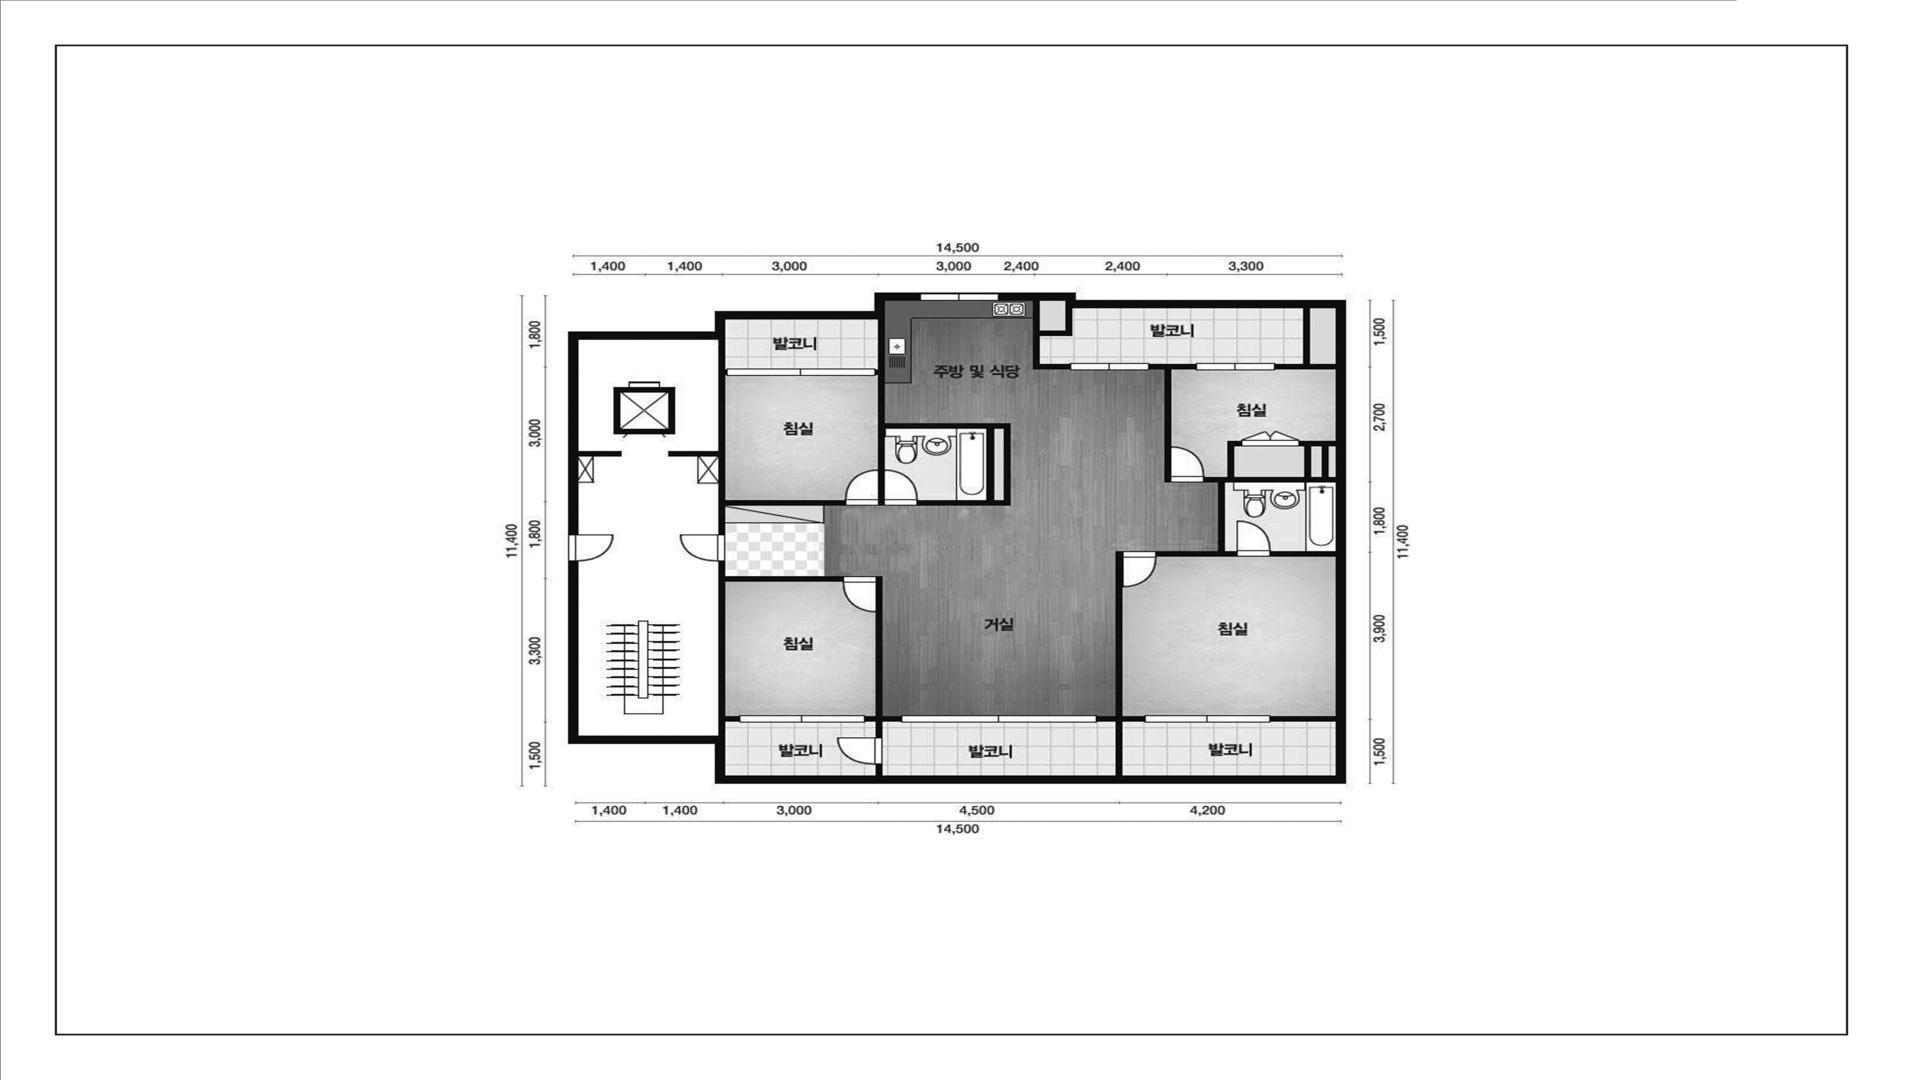background: (0, 0, 1920, 1080)
door: (567, 534, 615, 562), (836, 737, 884, 765), (679, 534, 725, 562), (1122, 551, 1156, 588), (845, 468, 878, 506), (885, 468, 918, 506), (843, 576, 876, 613), (1237, 520, 1270, 556), (1171, 446, 1204, 483), (1241, 430, 1300, 447)
wall: (567, 293, 1346, 785), (567, 293, 919, 534), (669, 340, 845, 534), (878, 320, 1011, 506), (717, 562, 843, 736), (1155, 440, 1336, 558), (1098, 551, 1145, 775), (865, 576, 901, 737), (1150, 364, 1196, 483), (1275, 309, 1336, 369), (1033, 301, 1072, 369), (1270, 551, 1336, 558), (1271, 716, 1336, 721), (579, 451, 622, 456), (876, 765, 884, 775)
window: (901, 715, 1098, 723), (725, 368, 878, 376), (1145, 715, 1271, 723), (740, 715, 865, 723), (1069, 363, 1150, 371), (919, 293, 1000, 301), (1196, 363, 1275, 371)
